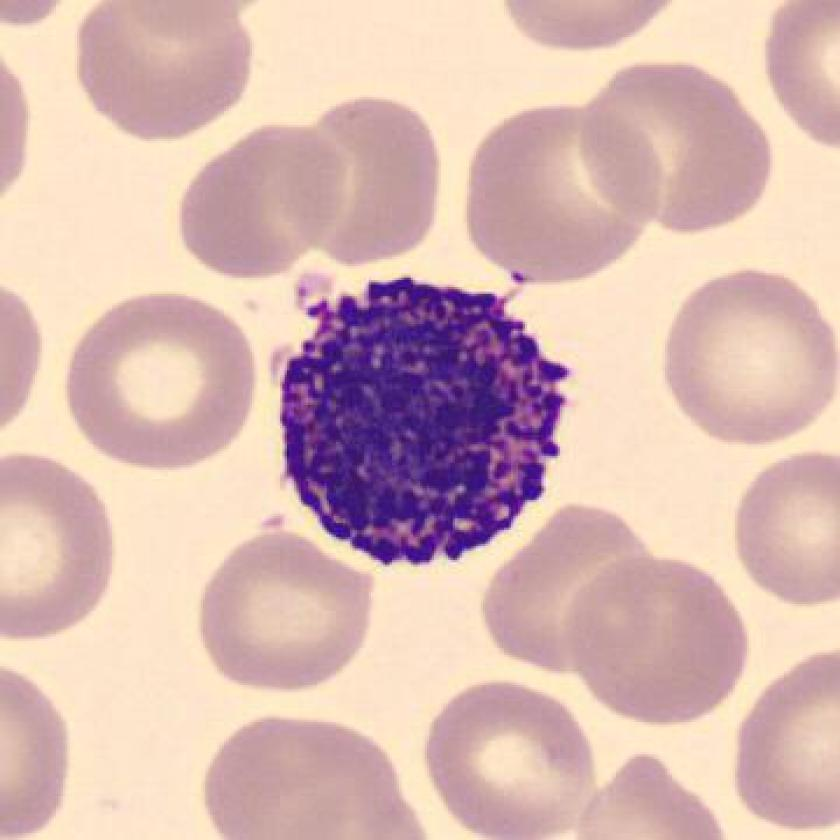basophil: (251, 274, 580, 570)
